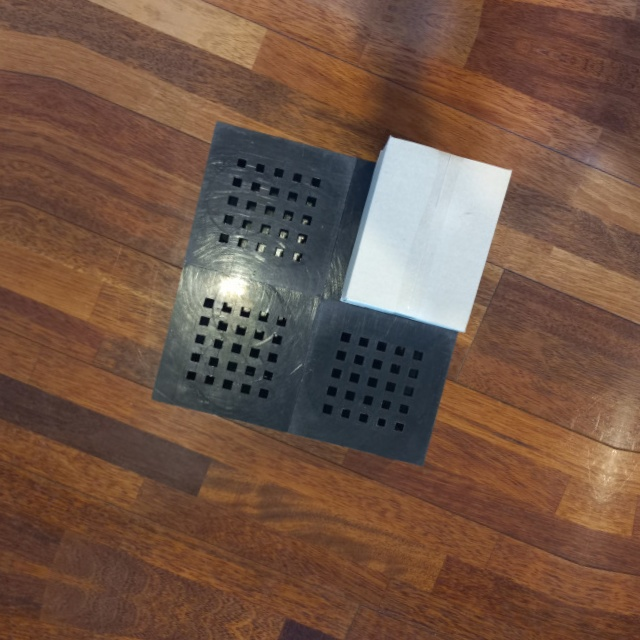box: (340, 132, 515, 335)
pallet: (143, 113, 496, 469)
